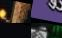torchT: (0, 0, 31, 23)
tree: (38, 23, 62, 38)
